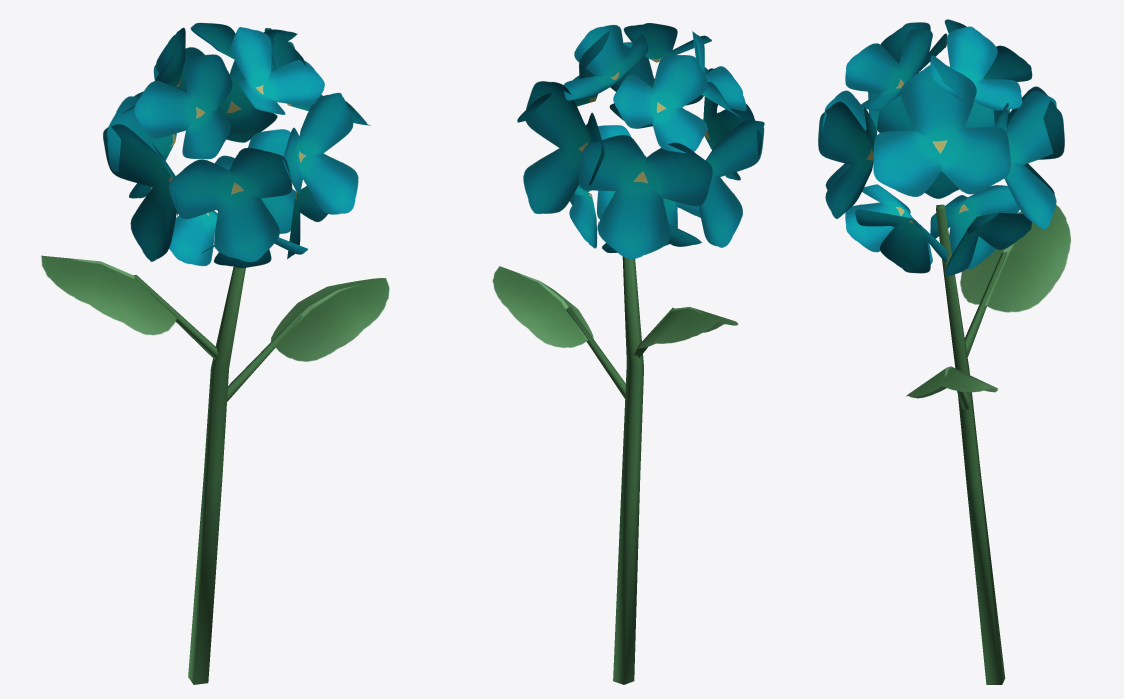
Rendered from Flower_1.glb.
The picture shows the model from 3 angles, left to right: view 1: azimuth 30°, elevation 25°; view 2: azimuth 150°, elevation 25°; view 3: azimuth 270°, elevation 25°; orthographic projection. The views are drawn at different scales.
Parts seen in each view (by area): view 1: Flower_1; view 2: Flower_1; view 3: Flower_1.
Part boxes in pixels (x1,y1,x2,y2): Flower_1: (41,22,389,684); Flower_1: (492,23,764,684); Flower_1: (818,19,1070,684).
Bounding box in the file's own units: 0.2677 × 0.4894 × 0.2044.
Materials: 1 (1 with a texture image).
